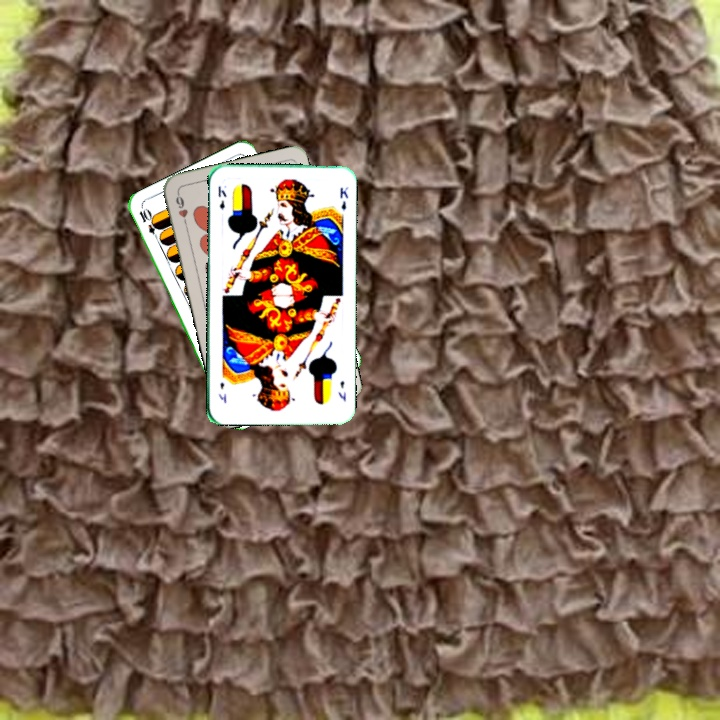E10: (135, 205, 161, 244)
EK: (214, 182, 229, 212), (334, 377, 348, 404)
H9: (172, 188, 191, 228)
